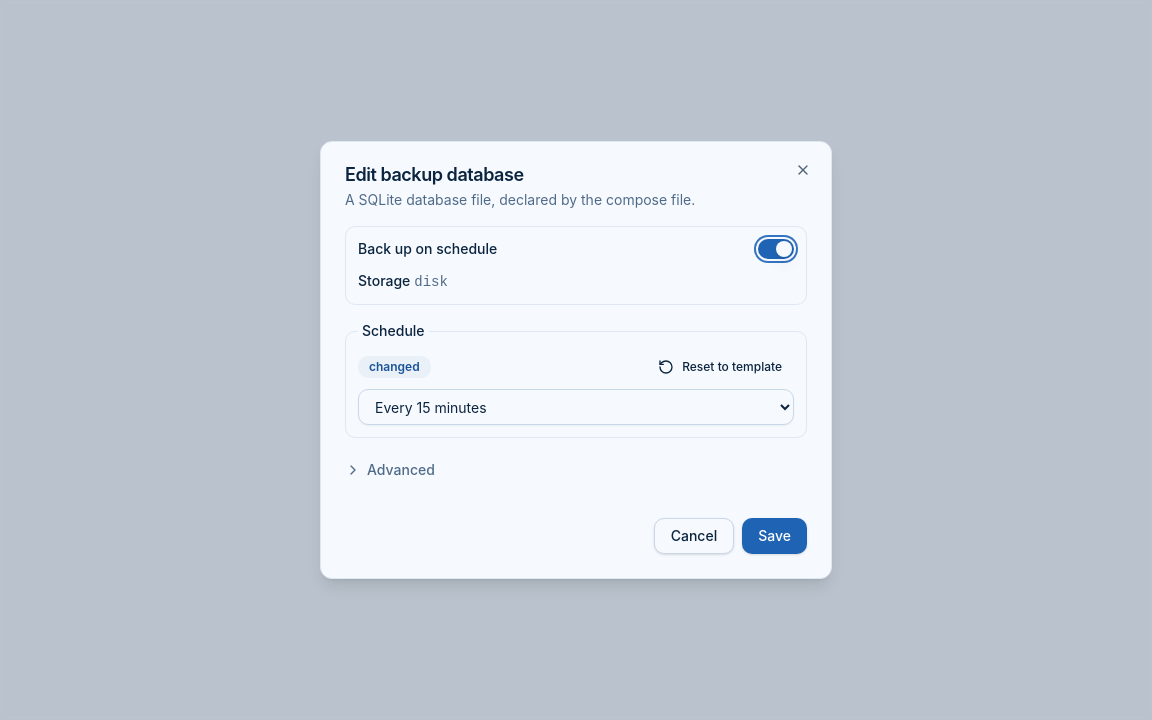
Test: BackupEditDialog › says the template's value applies on save even when the agent sent no template
Click the button "Advanced" at (390, 470), box [345,450,435,490]
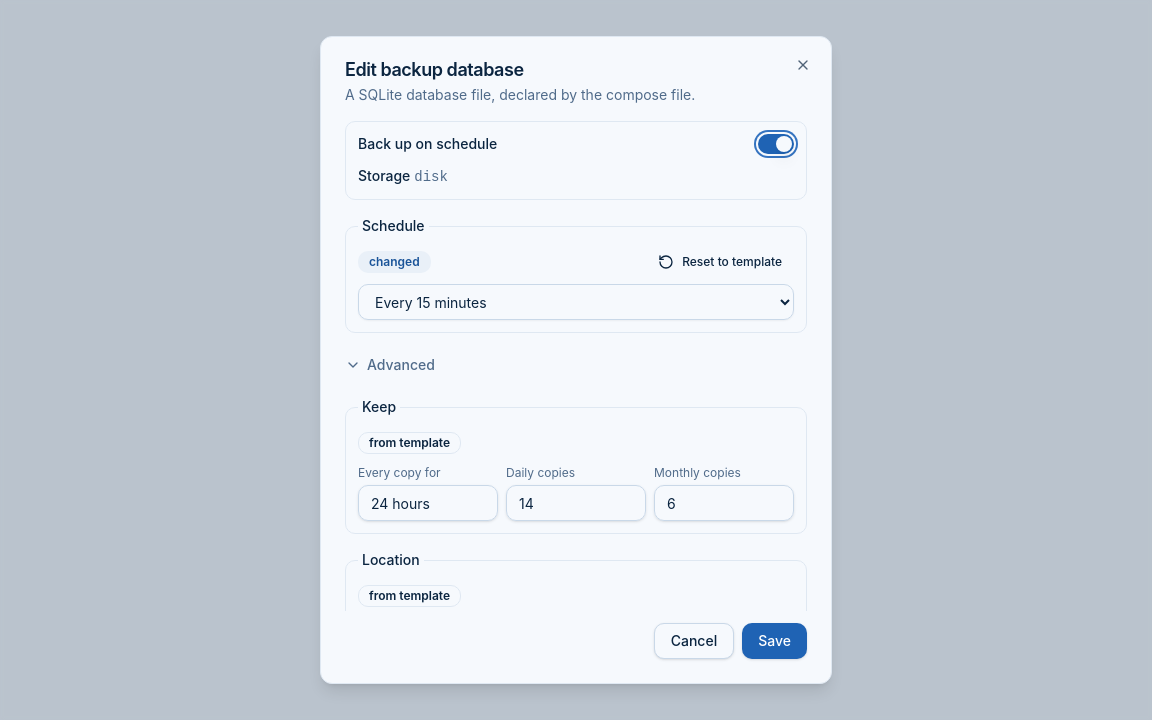
Click the button "Reset to template" at (720, 262), box [646,248,794,276]
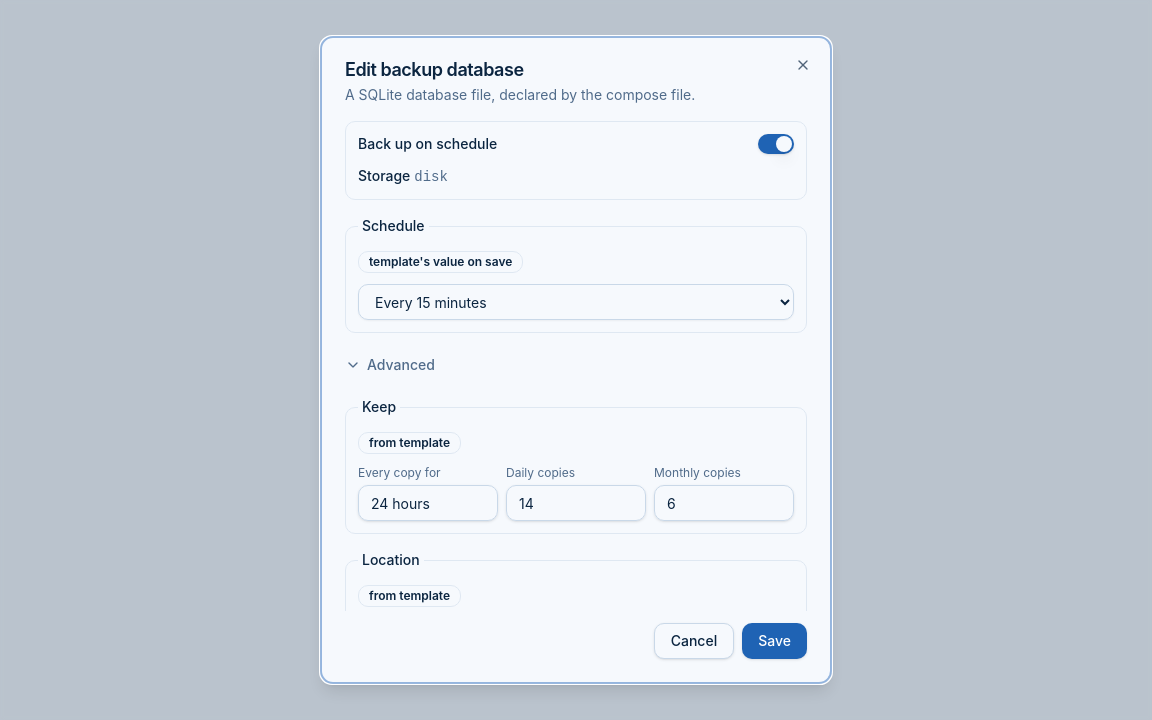
Check: the text "template's value on save" is shown, box [358,251,523,273]
